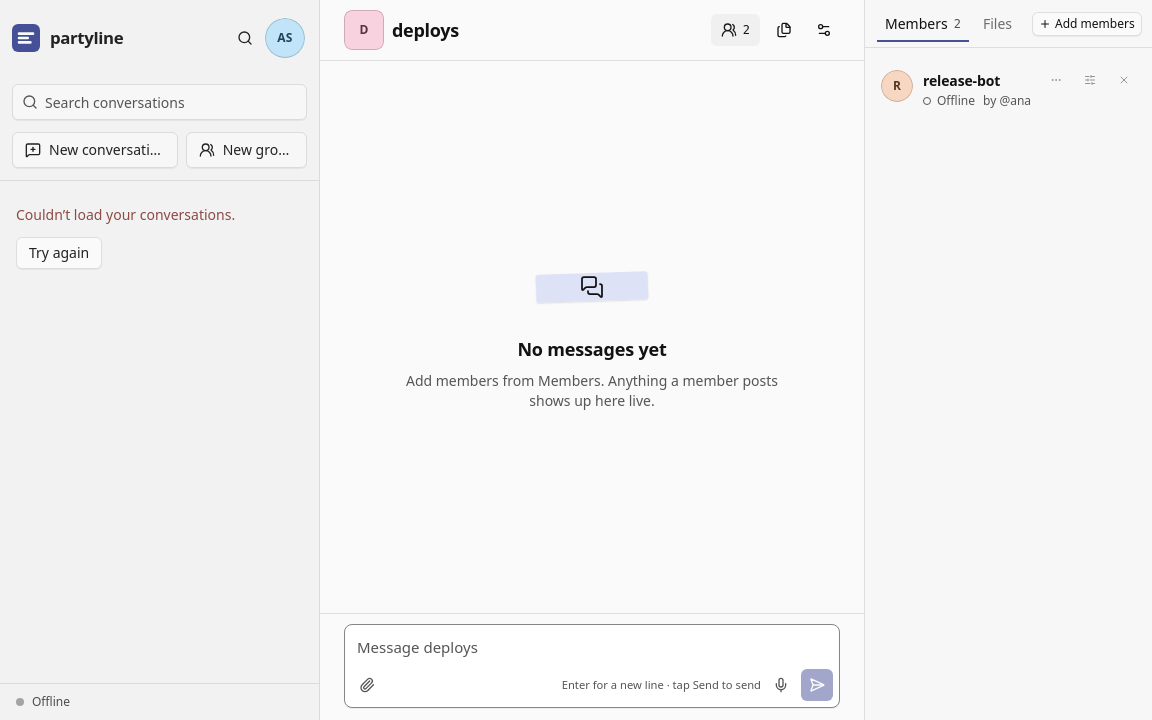
Test: agent membership settings (MEM-01..05) › offers settings for agent members only, to managers, and shows the saved settings
The image size is (1152, 720).
Click the button named "Settings for release-bot": (1090, 80) [1078,68,1102,92]
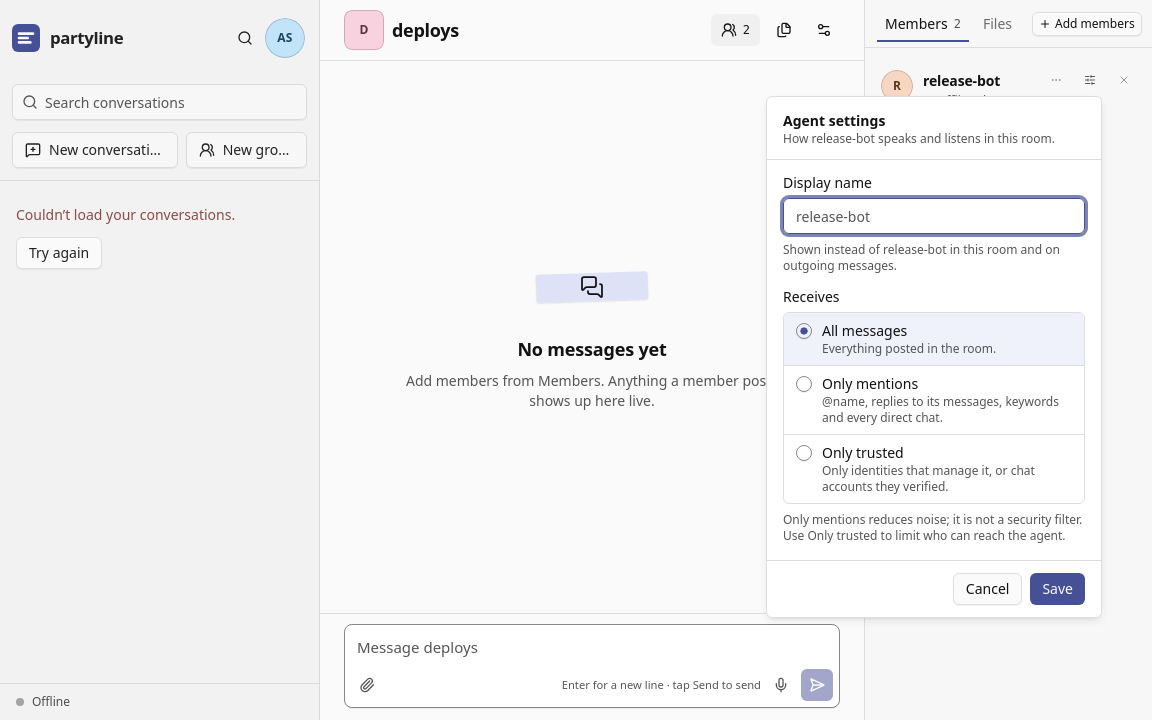
In the field labelled "Display name": (934, 216) [783,198,1085,234], type "Bia"
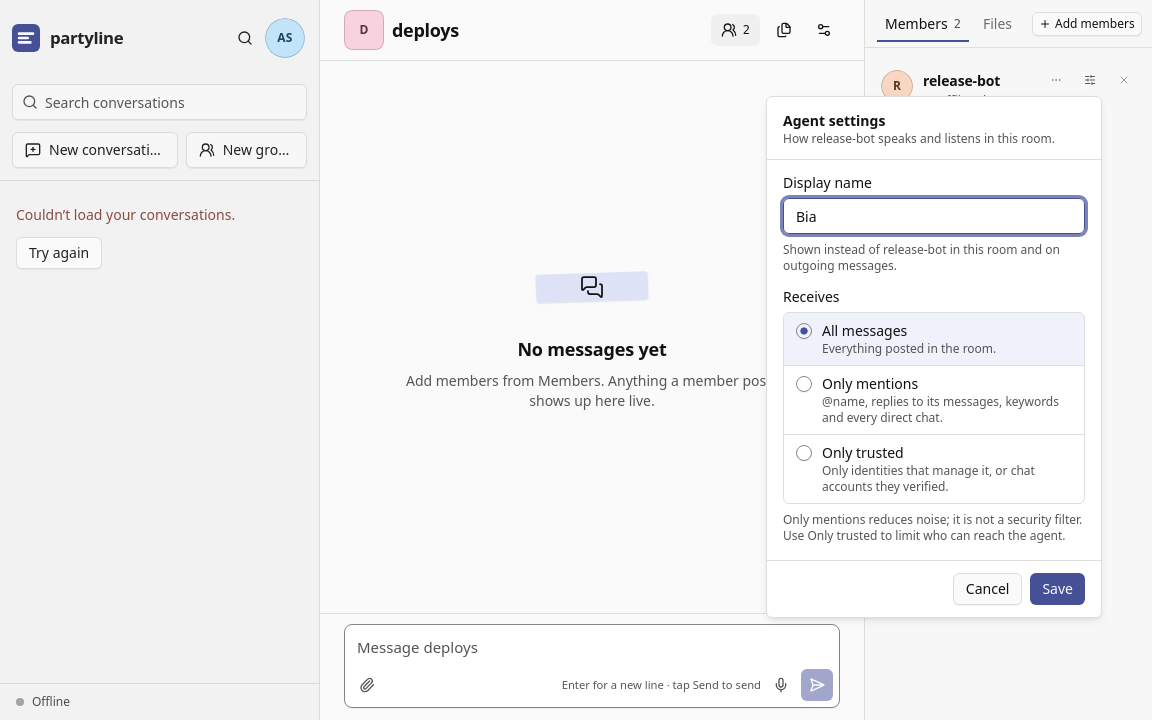
Click the 2nd radio button named "Only mentions": (804, 384) [796,376,812,392]
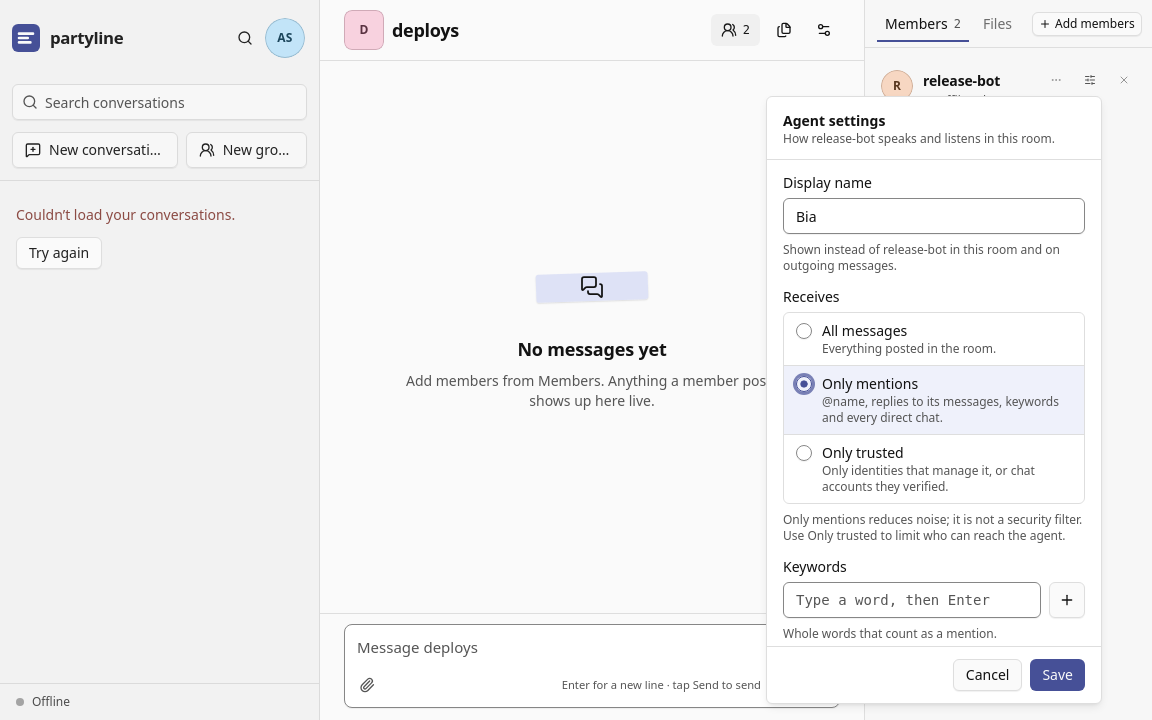
Click the button "Save": (1058, 675) [1030,659,1085,691]
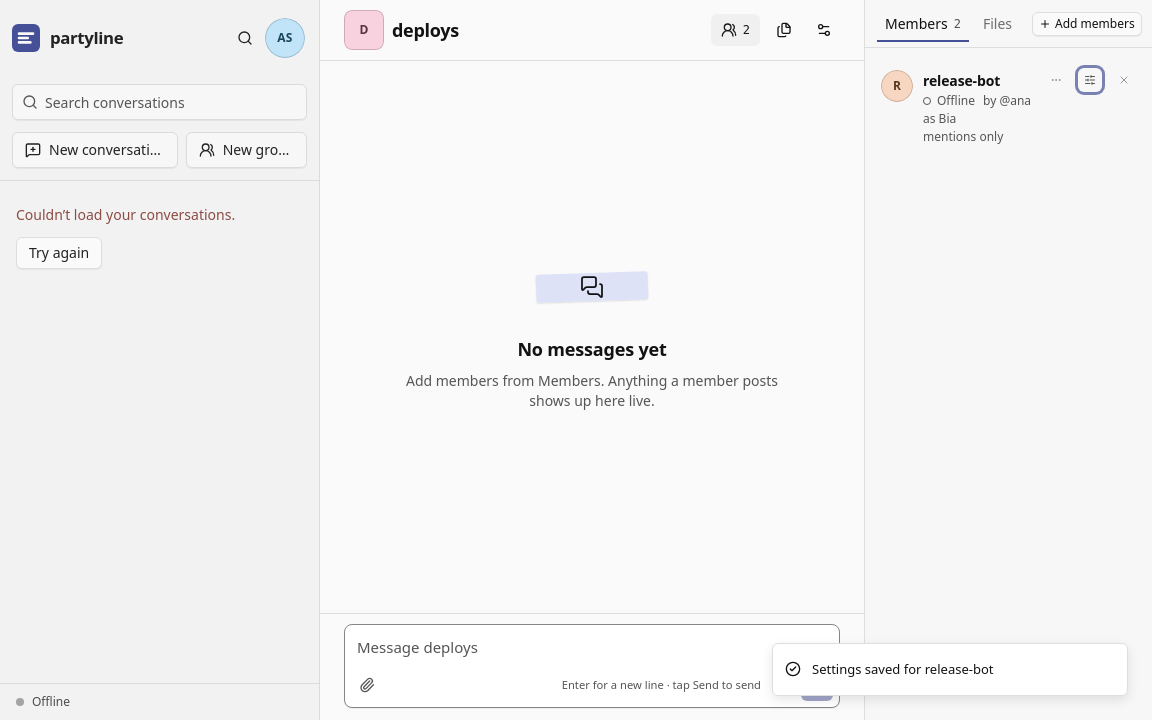
Check: the list item with test id "member-mb-bot" does not show "unsigned", box [865,60,1151,153]
Check: the list item with test id "member-mb-bot" shows "as Bia", box [923,110,956,127]
Check: the list item with test id "member-mb-bot" shows "mentions only", box [923,128,1003,145]
